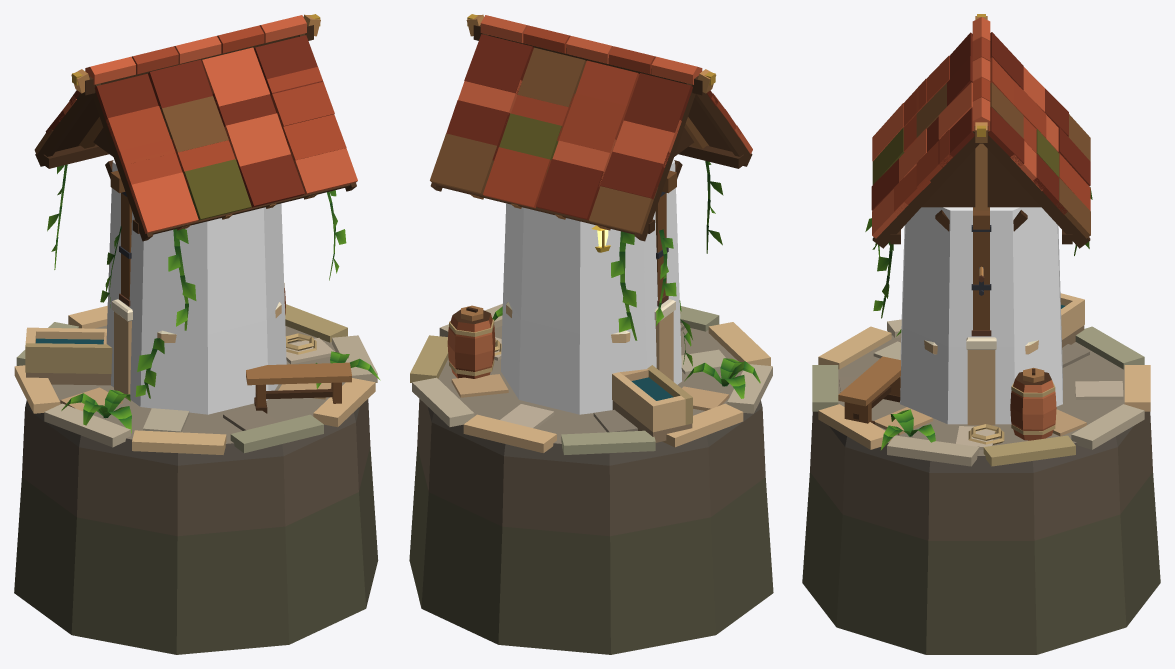
The model's file is stone_well_courtyard.glb.
3 renders of one model, left to right at view 1: azimuth 30°, elevation 25°; view 2: azimuth 150°, elevation 25°; view 3: azimuth 270°, elevation 25°, orthographic. The views are drawn at different scales.
Visible parts, largest first — view 1: StoneWellCourtyard, col_well_base; view 2: StoneWellCourtyard, col_well_base; view 3: StoneWellCourtyard, col_well_base.
Part boxes in pixels (x1,y1,x2,y2): StoneWellCourtyard: (14, 14, 380, 654); col_well_base: (106, 159, 286, 414); StoneWellCourtyard: (409, 14, 773, 654); col_well_base: (501, 159, 681, 414); StoneWellCourtyard: (802, 14, 1160, 654); col_well_base: (900, 207, 1062, 424).
Bounding box in the file's own units: 4.56 × 7.44 × 4.68.
